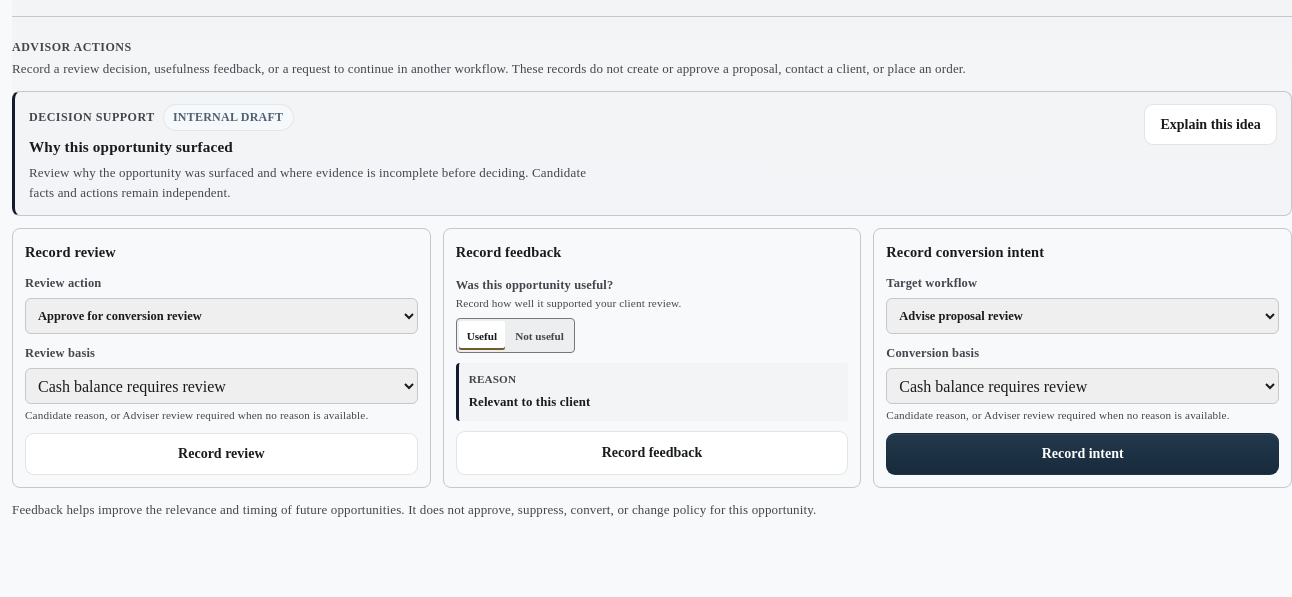
Test: IdeaCandidateActionPanel › keeps a 403 feedback failure explicit
Click the button "Record feedback" at (652,453), box [456,431,848,475]
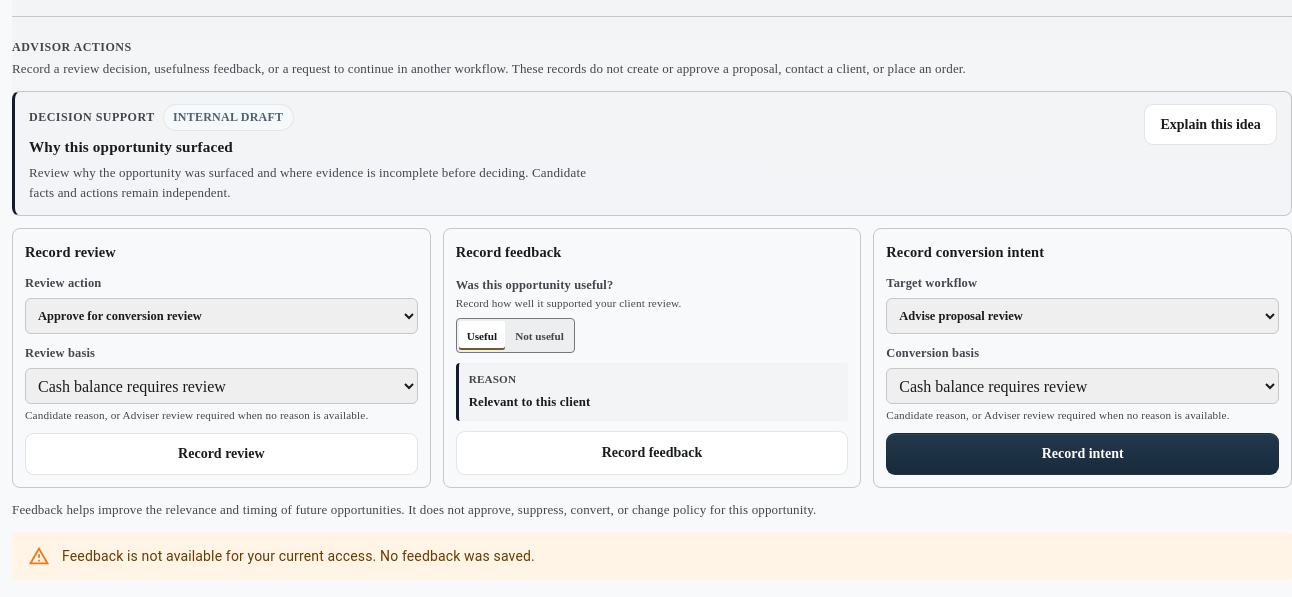
Now the message with test id "idea-action-error" shows "Feedback is not available for your current access", box [62,548,535,564]
